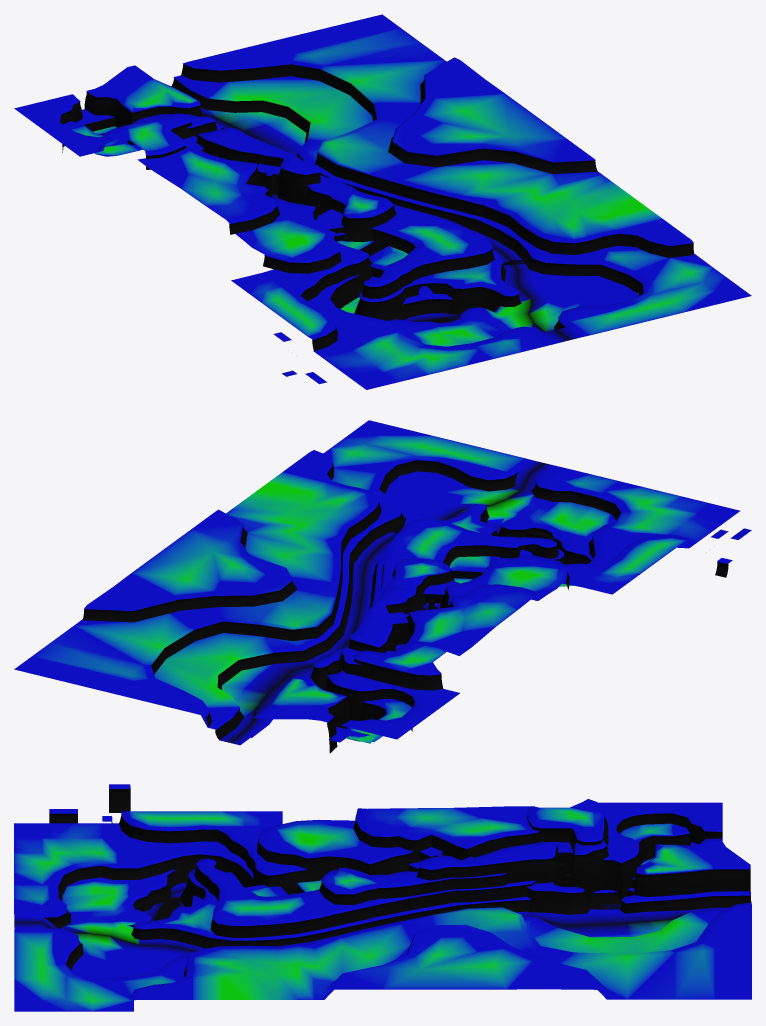
Rendered from level-1-intro.glb.
3 renders of one model, top to bottom at view 1: azimuth 30°, elevation 25°; view 2: azimuth 150°, elevation 25°; view 3: azimuth 270°, elevation 25°, orthographic. The views are drawn at different scales.
Parts seen in each view (by area): view 1: tmp-level-1; view 2: tmp-level-1; view 3: tmp-level-1.
Part boxes in pixels (x1,y1,x2,y2): tmp-level-1: (14,14,751,389); tmp-level-1: (14,420,751,753); tmp-level-1: (14,784,751,1011).
Size of the model in its own units: 172 by 23.09 by 260.
